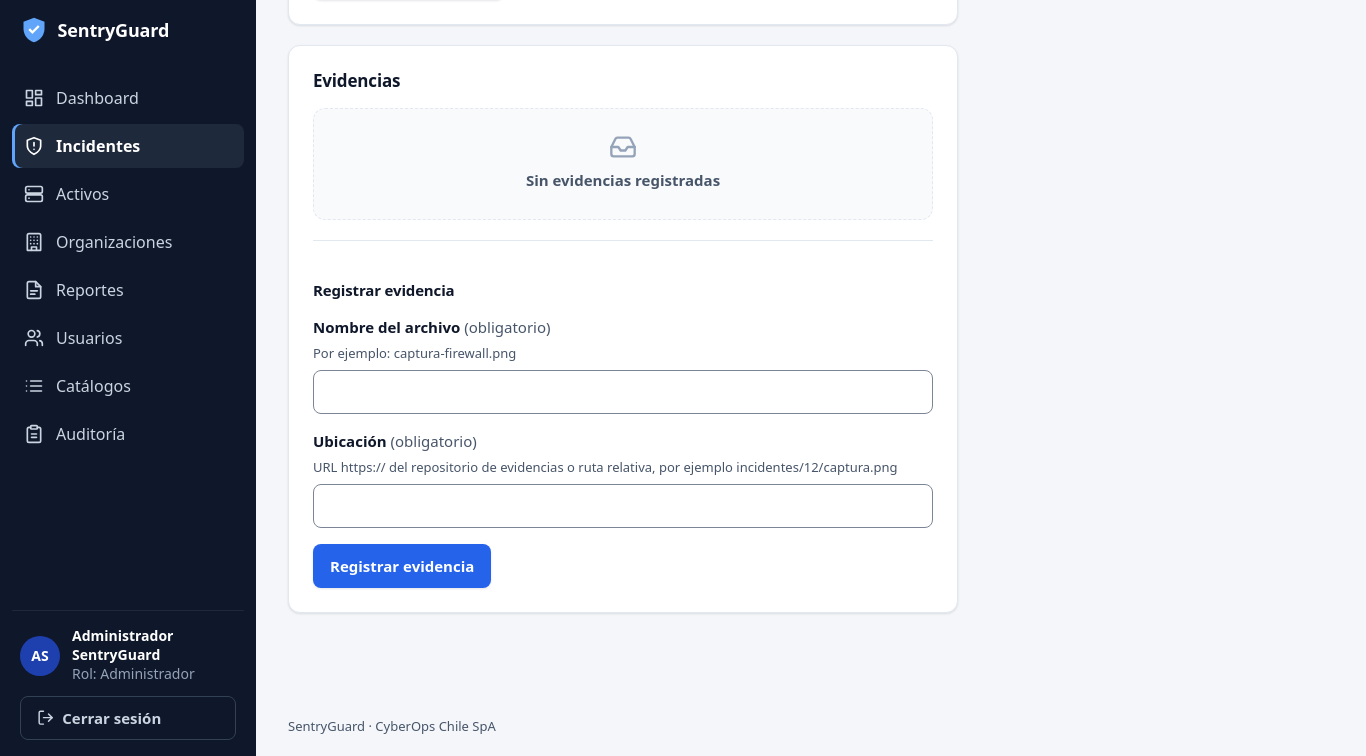
Test case: Bitácora y evidencias del incidente › rechaza una ubicación de evidencia con javascript: sin enviarla a la API
This screenshot has width=1366, height=756.
(page scrolled)
Type "captura.png" into the field labelled "Nombre del archivo (obligatorio)" at (623, 392), box [313, 370, 933, 414]
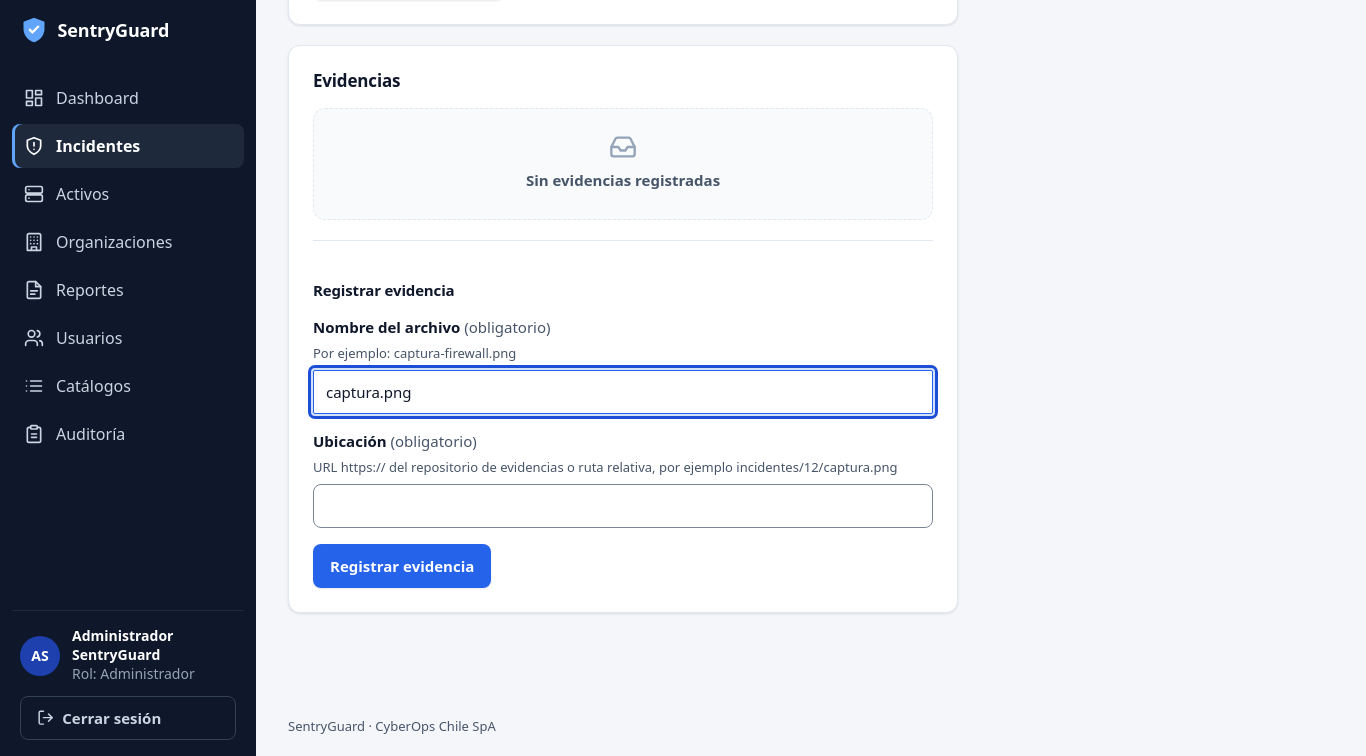
Type "javascript:alert(1)" into the field labelled "Ubicación (obligatorio)" at (623, 506), box [313, 484, 933, 528]
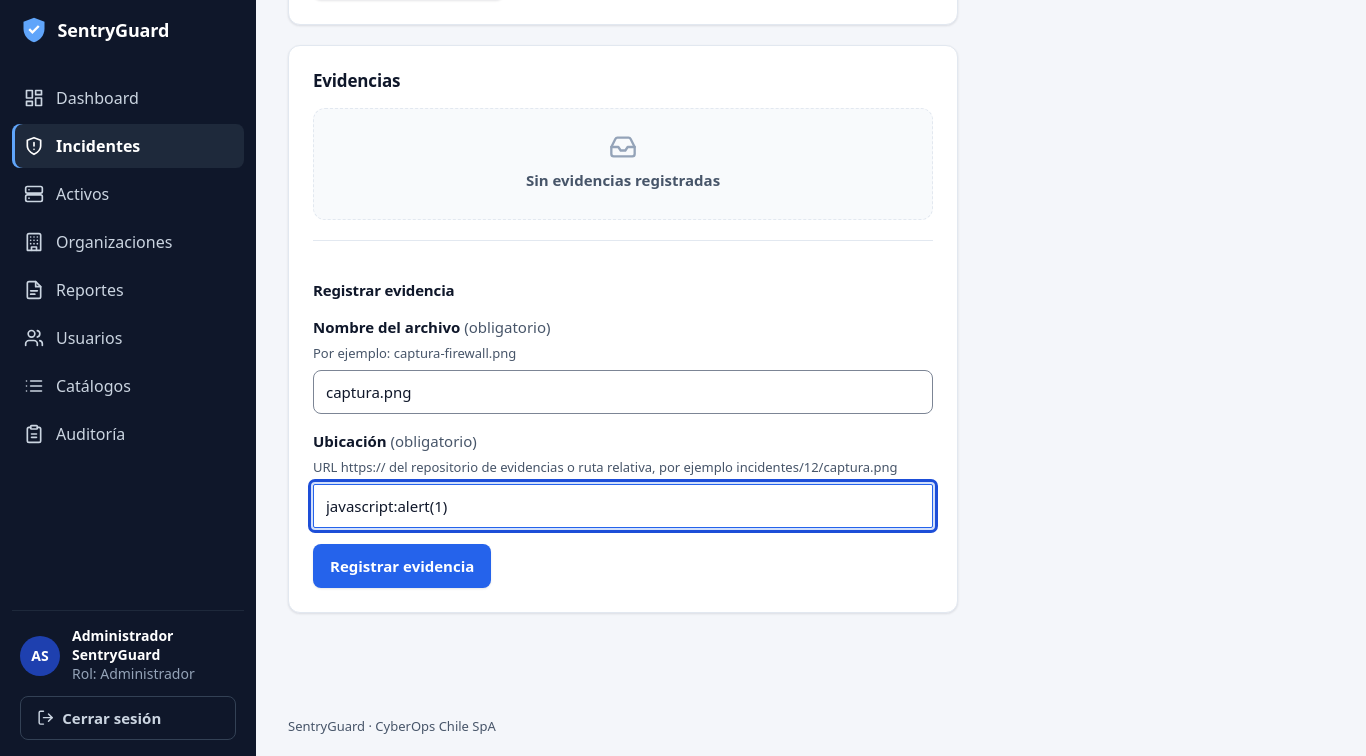
Click the button "Registrar evidencia" at (402, 566), box [313, 544, 491, 588]
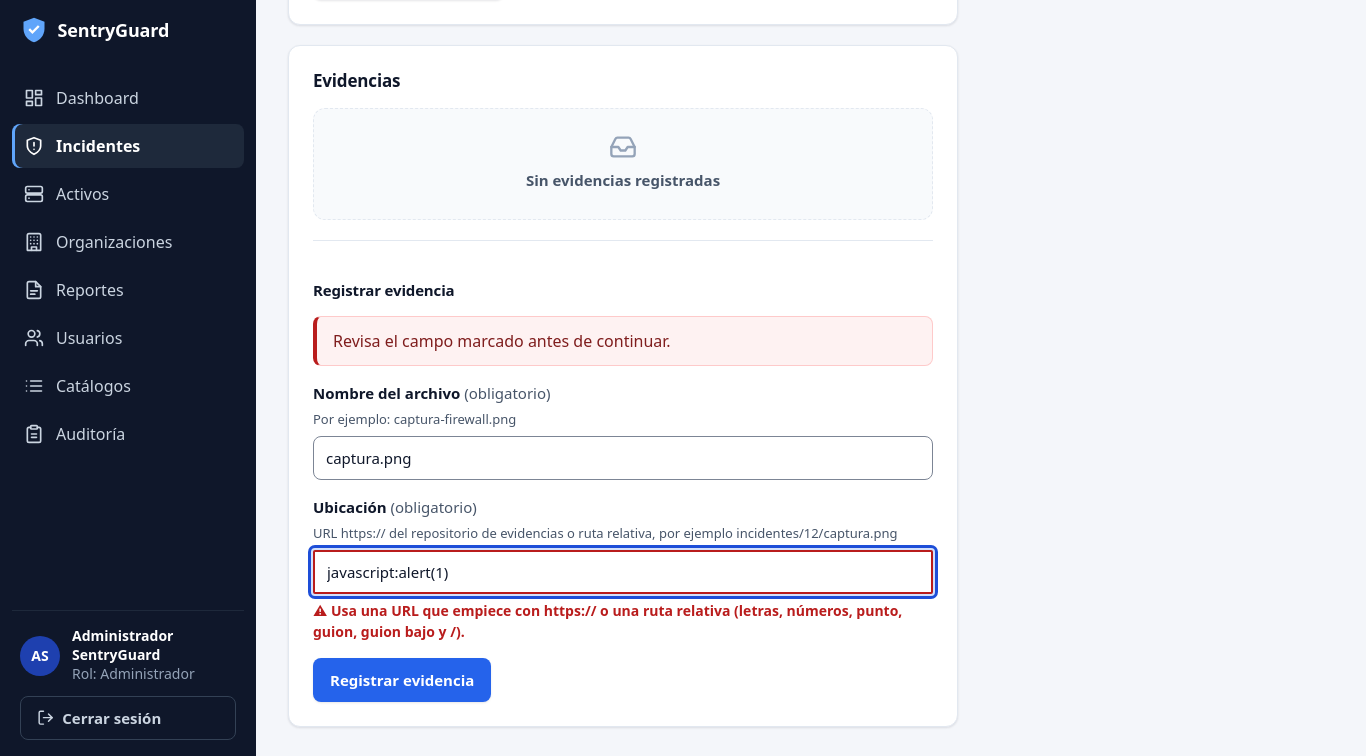
expect the text "Usa una URL que empiece con https" is shown: met, box [313, 601, 902, 641]
